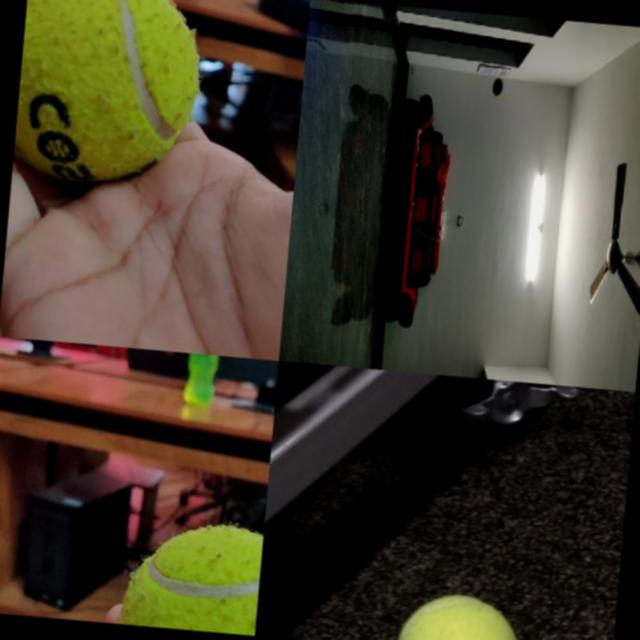Tennis Ball: (12, 0, 207, 191), (119, 516, 264, 634), (394, 589, 526, 640), (491, 77, 504, 97)
